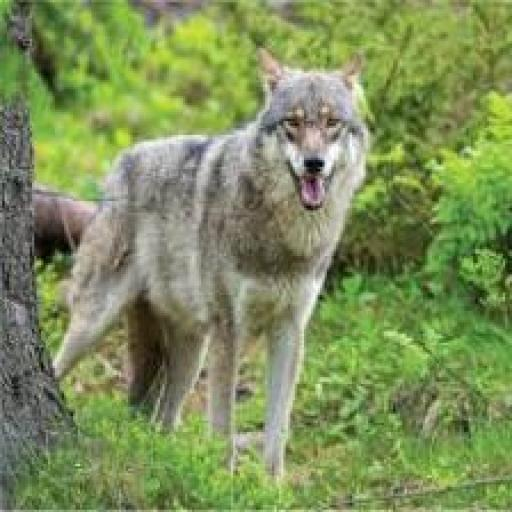wolf: (32, 39, 390, 488)
